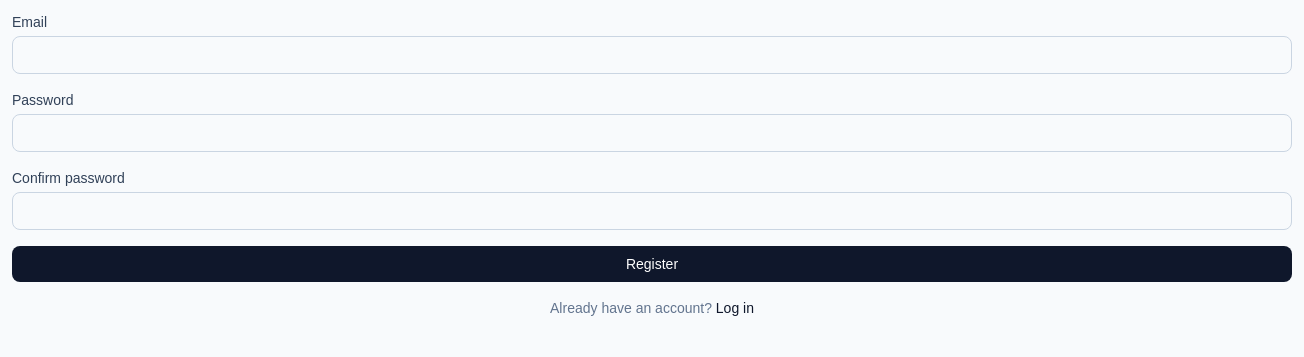
Test: RegisterForm (integration) › shows a validation error when the passwords do not match
Step 1. Type "new-user@example.com" into the field labelled "Email" → [652, 55], box [12,36,1292,74]
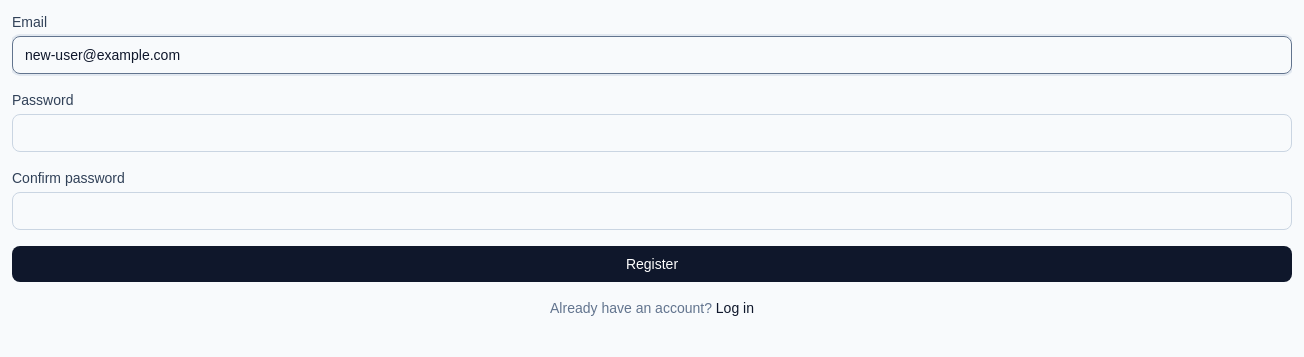
Step 2. Type "correct-password" into the password field labelled "Password" → [652, 133], box [12,114,1292,152]
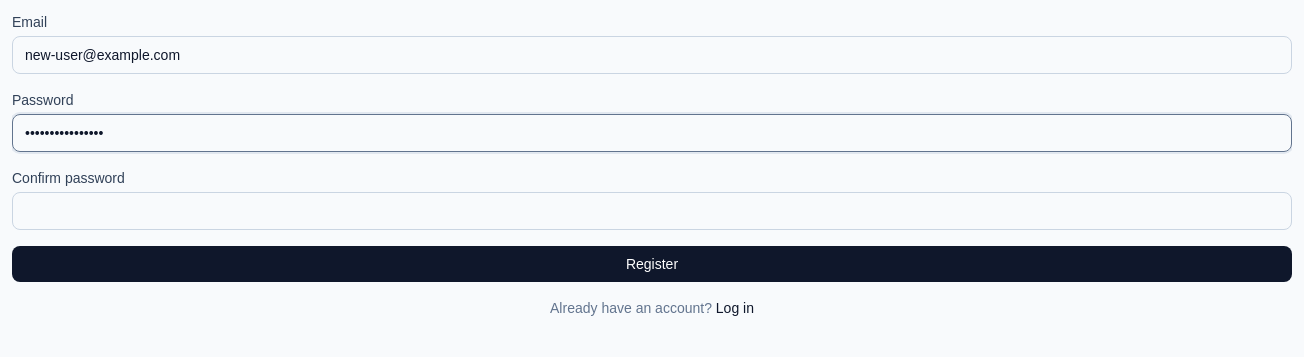
Step 3. Type "different-password" into the password field labelled "Confirm password" → [652, 211], box [12,192,1292,230]
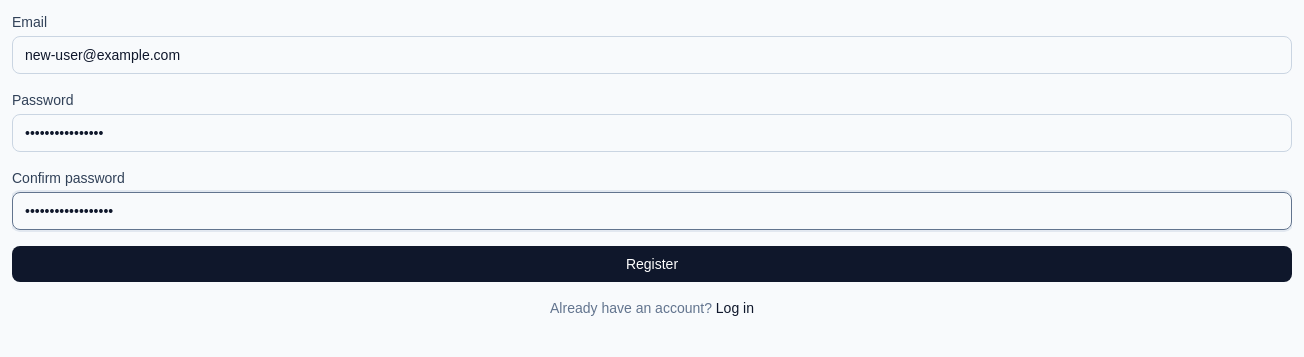
Step 4. Click the button "Register" → [652, 264], box [12,246,1292,282]
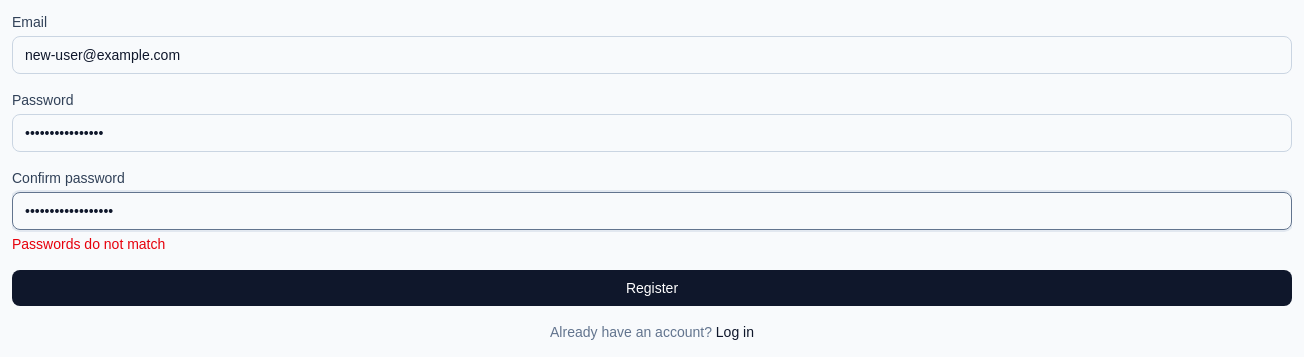
Check: the message reads "Passwords do not match", box [12,236,165,252]
